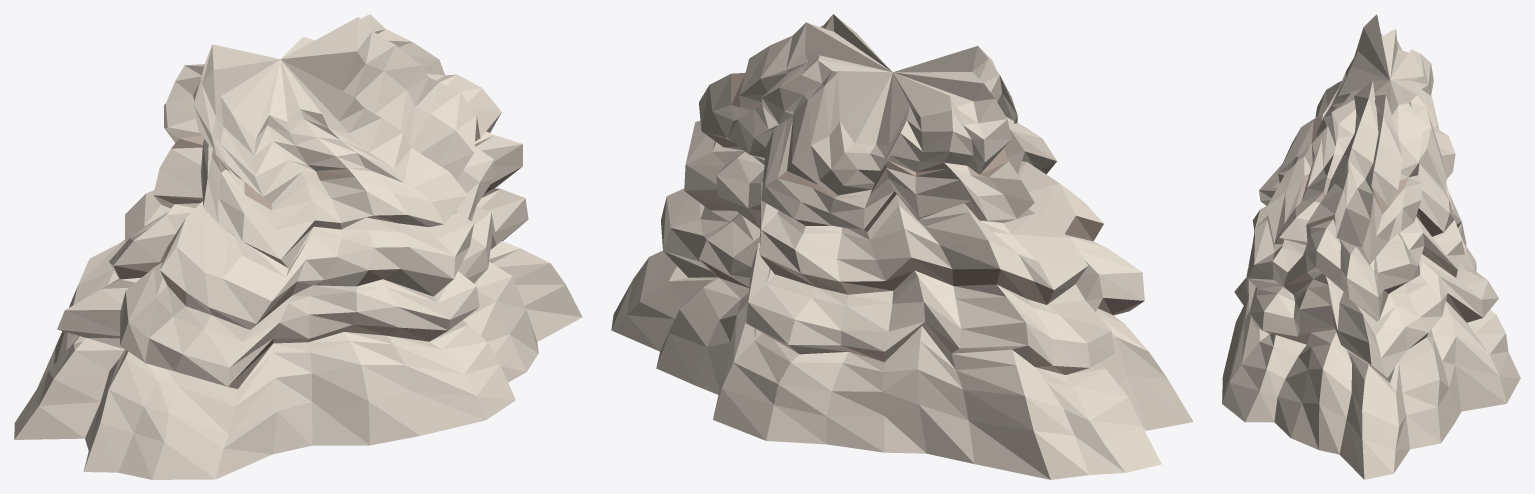
Rendered from canyon_cut.glb.
The picture shows the model from 3 angles, left to right: view 1: azimuth 30°, elevation 25°; view 2: azimuth 150°, elevation 25°; view 3: azimuth 270°, elevation 25°; orthographic projection. The views are drawn at different scales.
Parts seen in each view (by area): view 1: canyon_cut; view 2: canyon_cut; view 3: canyon_cut.
Boxes of the visible parts, left/top/right/bottom form: canyon_cut: left=14, top=14, right=582, bottom=479; canyon_cut: left=611, top=14, right=1193, bottom=479; canyon_cut: left=1222, top=14, right=1520, bottom=479.
Size of the model in its own units: 17.37 by 10.71 by 9.32.
